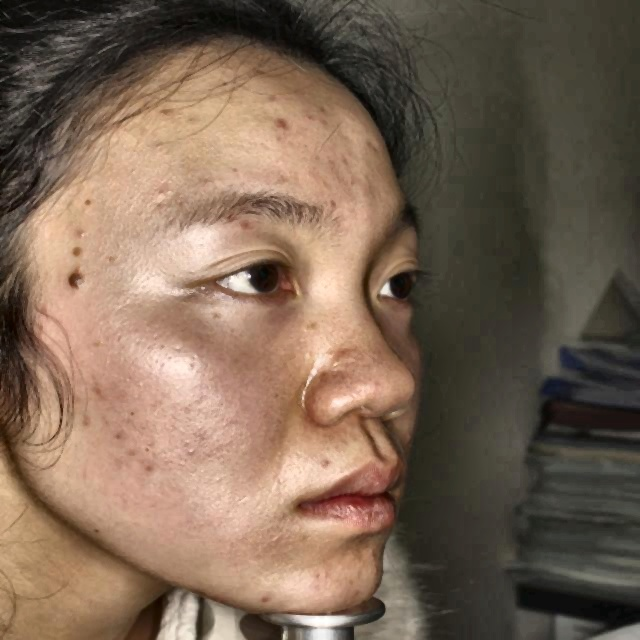comedone: (303, 90, 342, 133), (257, 107, 292, 146), (318, 354, 356, 382)
